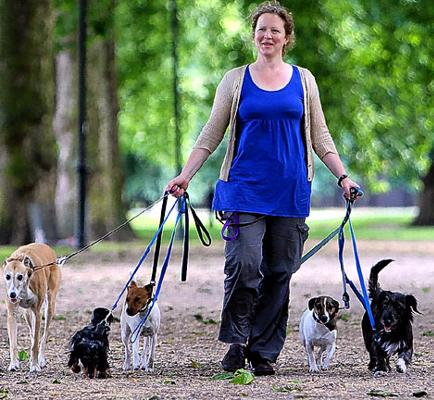person: (167, 5, 361, 383)
